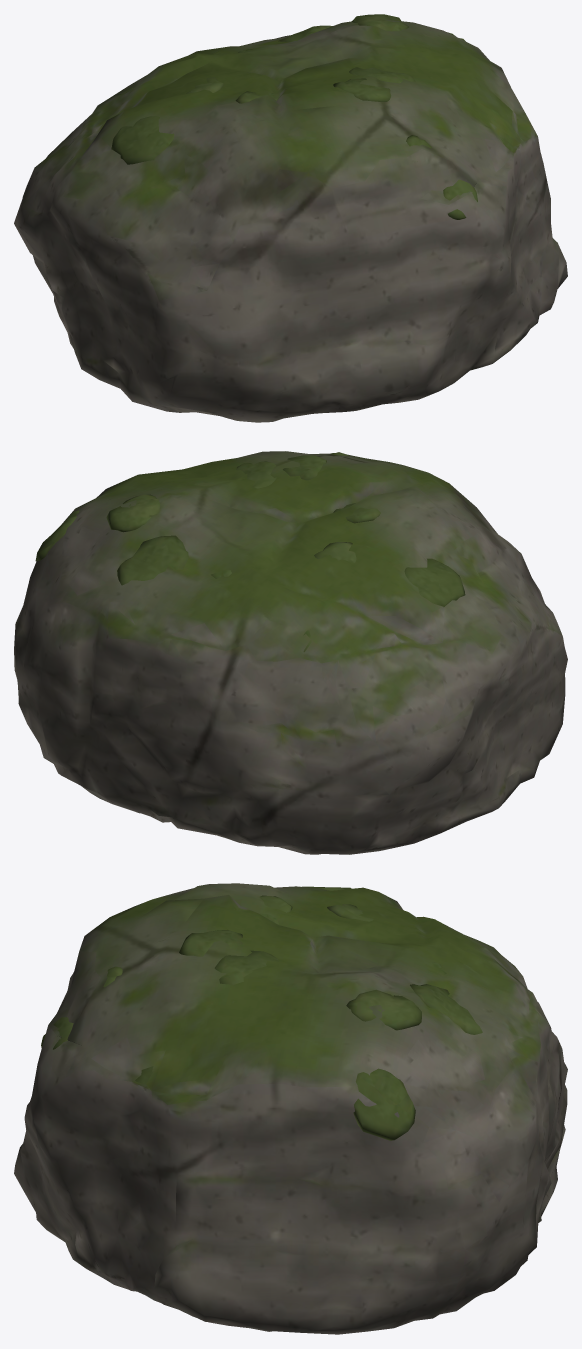
The model's file is rock_a.glb.
3 renders of one model, top to bottom at view 1: azimuth 30°, elevation 25°; view 2: azimuth 150°, elevation 25°; view 3: azimuth 270°, elevation 25°, orthographic. The views are drawn at different scales.
Visible parts, largest first — view 1: rock_a; view 2: rock_a; view 3: rock_a.
Boxes of the visible parts, <box> form: rock_a: <box>14,14,567,422</box>; rock_a: <box>14,451,567,854</box>; rock_a: <box>14,883,567,1334</box>.
Size of the model in its own units: 1.63 by 1.03 by 1.52.
Materials: 1 (1 with a texture image).
